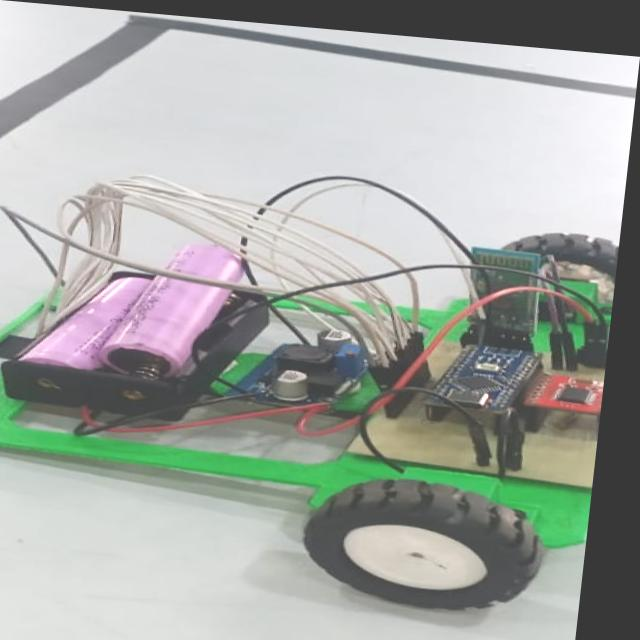vehicle: (0, 148, 624, 611)
